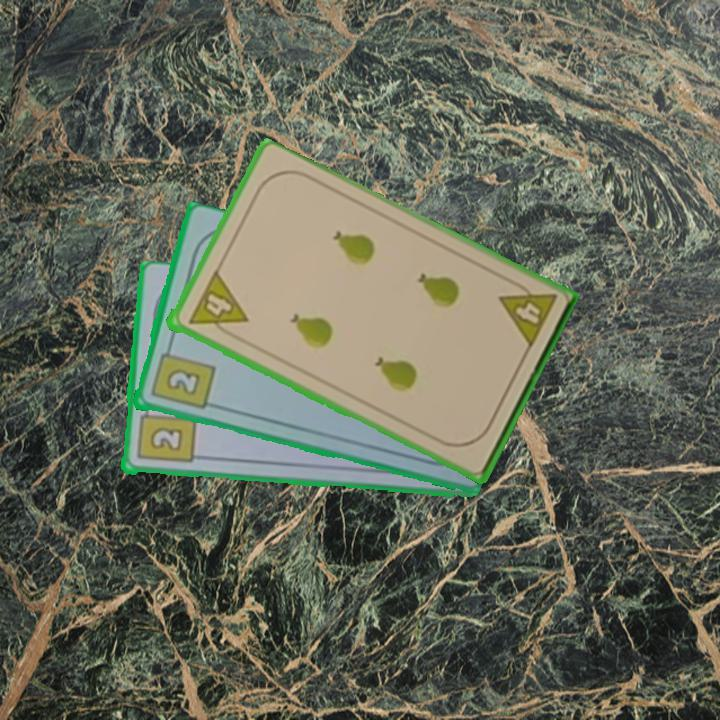2b: (147, 341, 217, 413), (133, 402, 197, 467)
4p: (494, 274, 560, 352), (184, 269, 250, 343)
